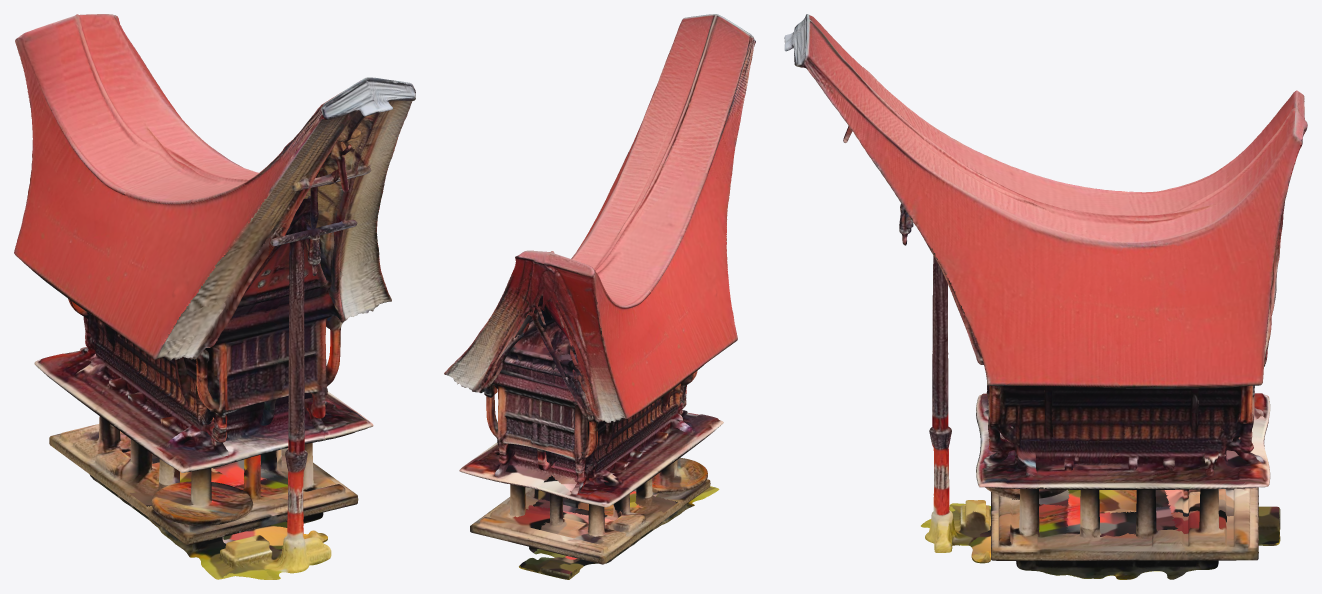
Rendered from tongkonan.glb.
3 renders of one model, left to right at view 1: azimuth 30°, elevation 25°; view 2: azimuth 150°, elevation 25°; view 3: azimuth 270°, elevation 25°, orthographic. The views are drawn at different scales.
Visible parts, largest first — view 1: tripo_node_5f3bb841-d246-4534-ae5b-105584441f94_0; view 2: tripo_node_5f3bb841-d246-4534-ae5b-105584441f94_0; view 3: tripo_node_5f3bb841-d246-4534-ae5b-105584441f94_0.
Part boxes in pixels (x1,y1,x2,y2): tripo_node_5f3bb841-d246-4534-ae5b-105584441f94_0: (14,14,415,579); tripo_node_5f3bb841-d246-4534-ae5b-105584441f94_0: (444,14,755,579); tripo_node_5f3bb841-d246-4534-ae5b-105584441f94_0: (784,14,1307,579).
Bounding box in the file's own units: 0.4609 × 1 × 0.9069.
1 material, 1 textured.
